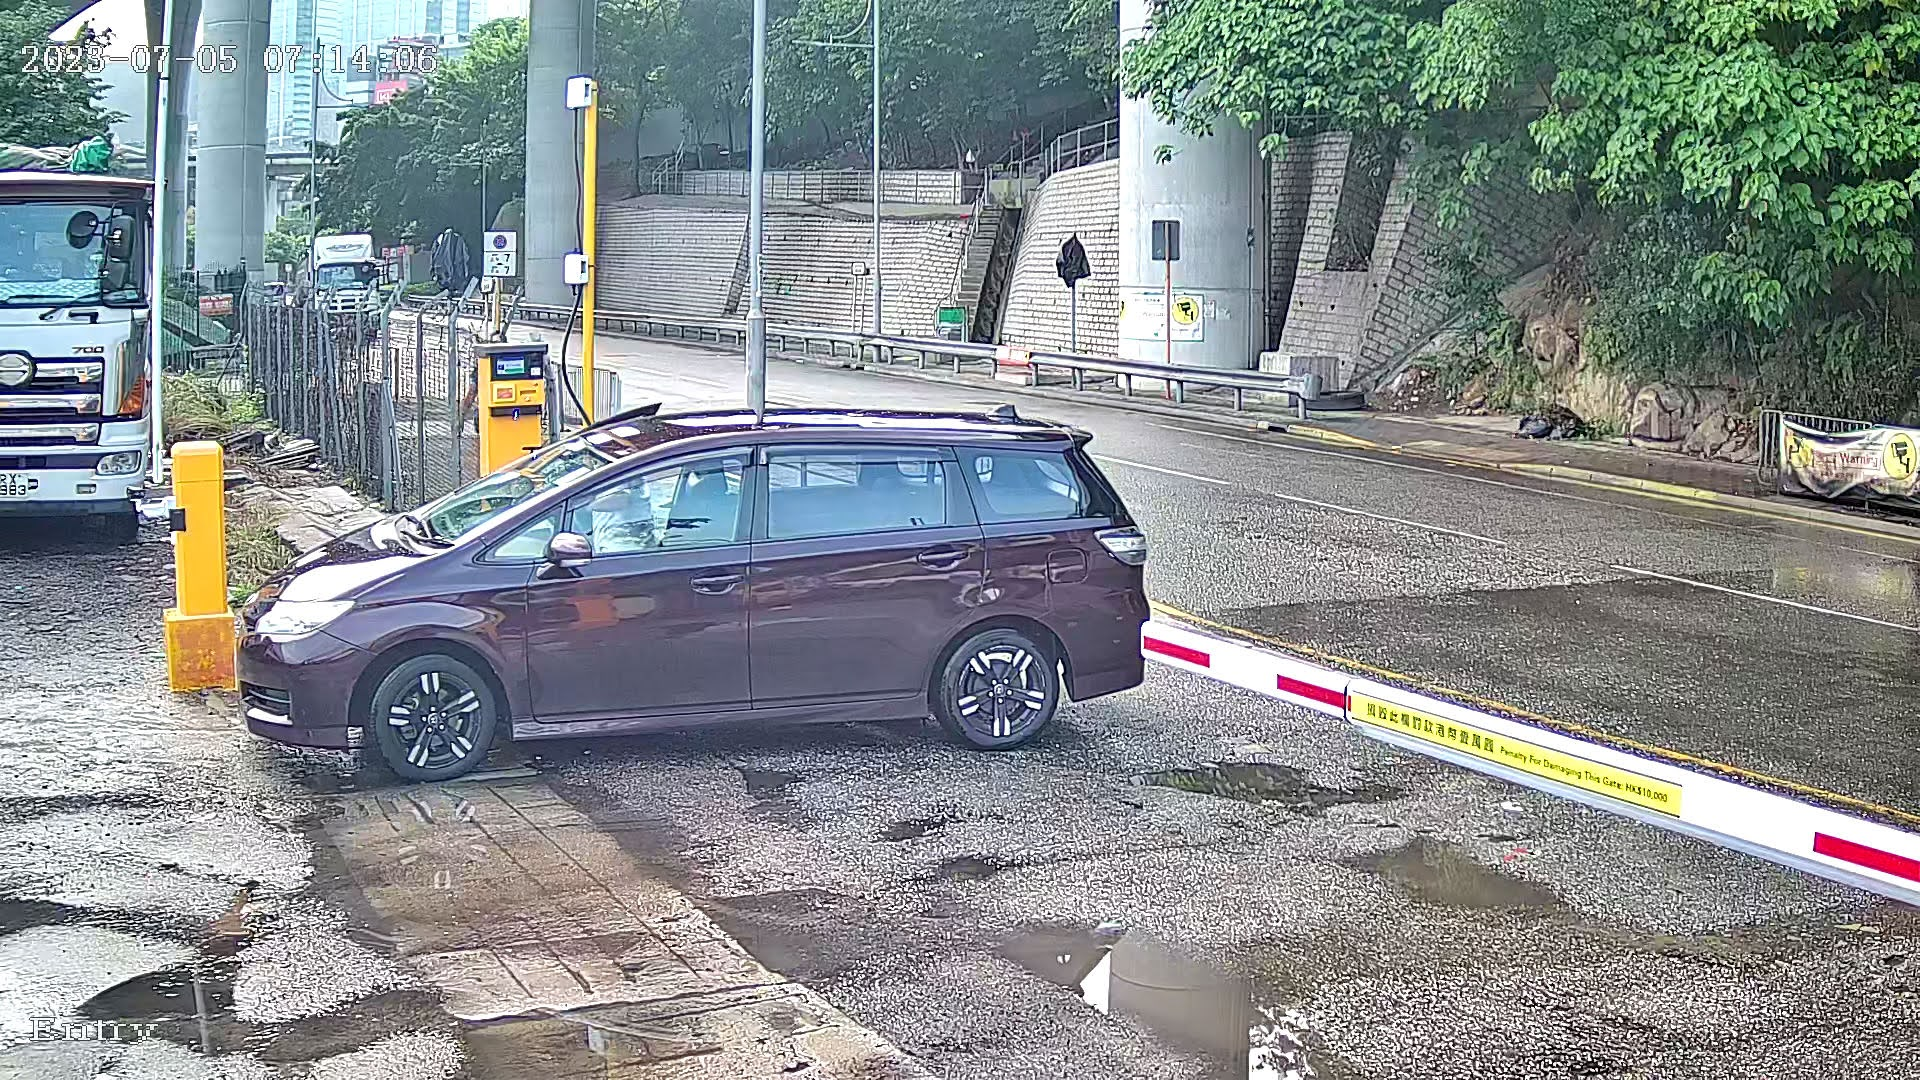privatecar: (215, 388, 1166, 812)
